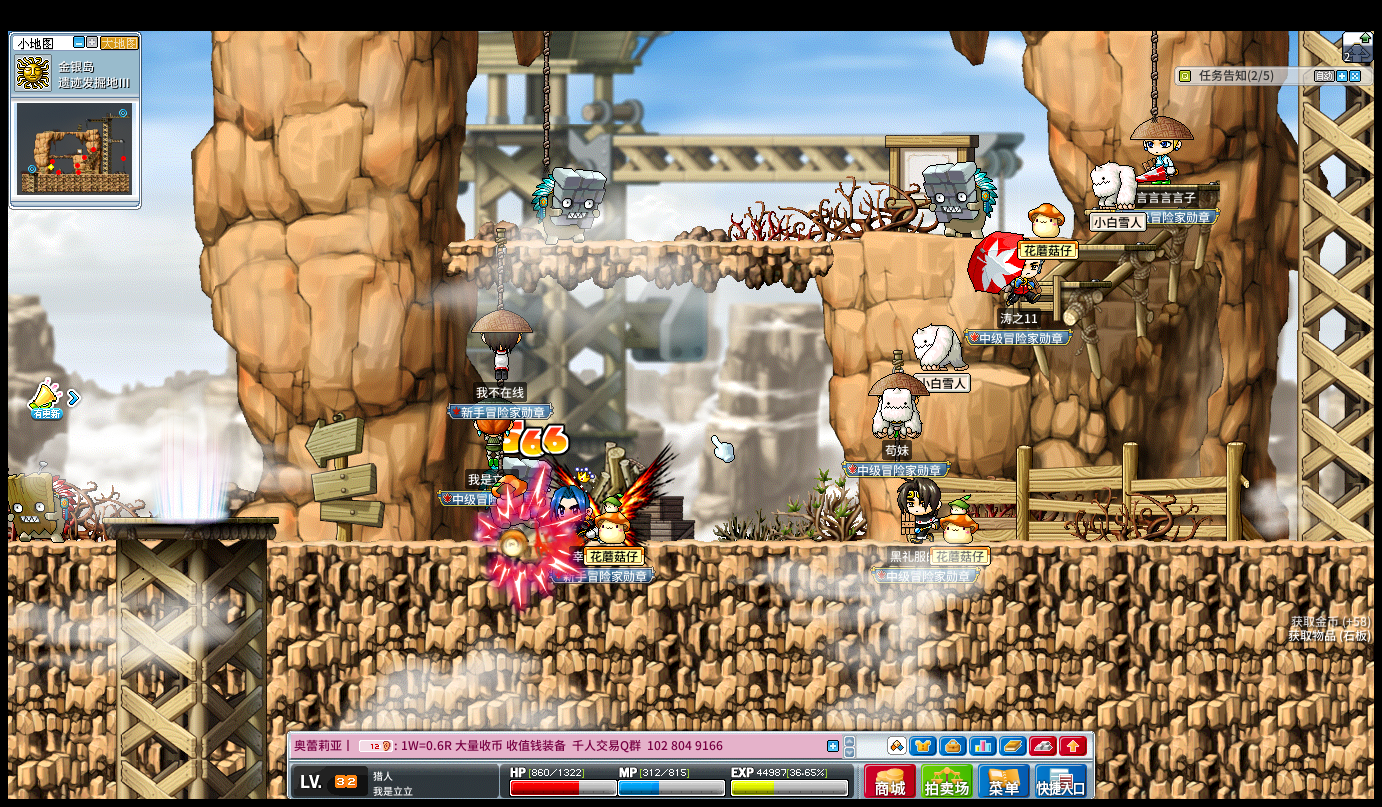floor: (446, 238, 831, 251), (101, 515, 280, 525), (958, 364, 1030, 382), (7, 539, 117, 550), (1017, 280, 1109, 288), (1069, 244, 1154, 251)
monster: (530, 166, 607, 244), (924, 161, 997, 237), (4, 464, 72, 543), (485, 463, 540, 534)
rope: (542, 30, 550, 172), (491, 232, 505, 311), (1148, 30, 1157, 119)
